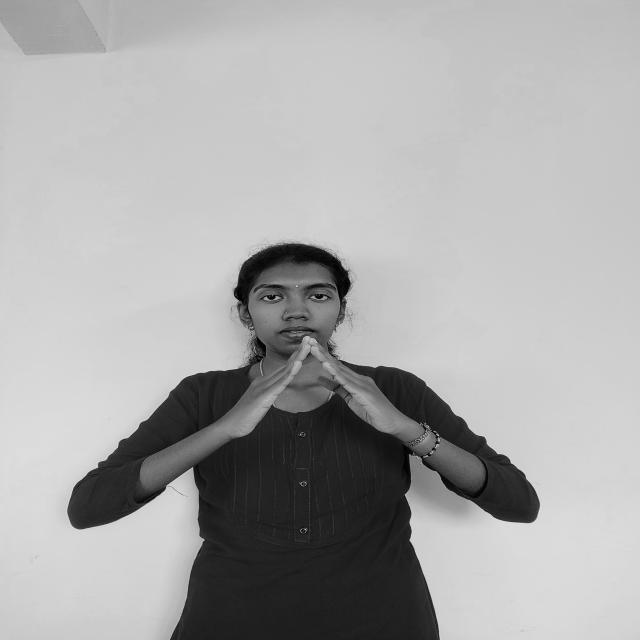Home: (191, 330, 426, 444)
